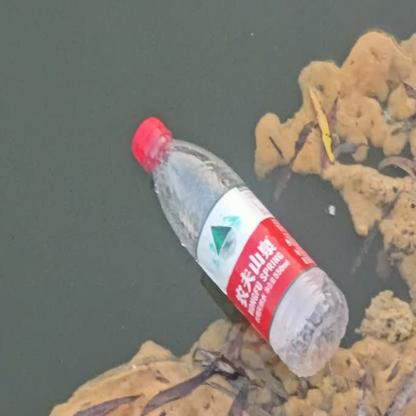plastic bottle: (129, 116, 348, 377)
